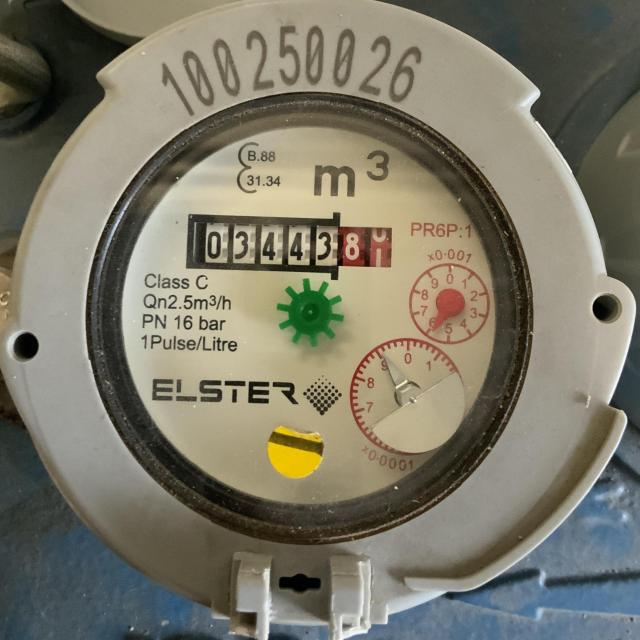gaz_meter: (86, 91, 530, 541)
indication: (198, 220, 397, 271)
